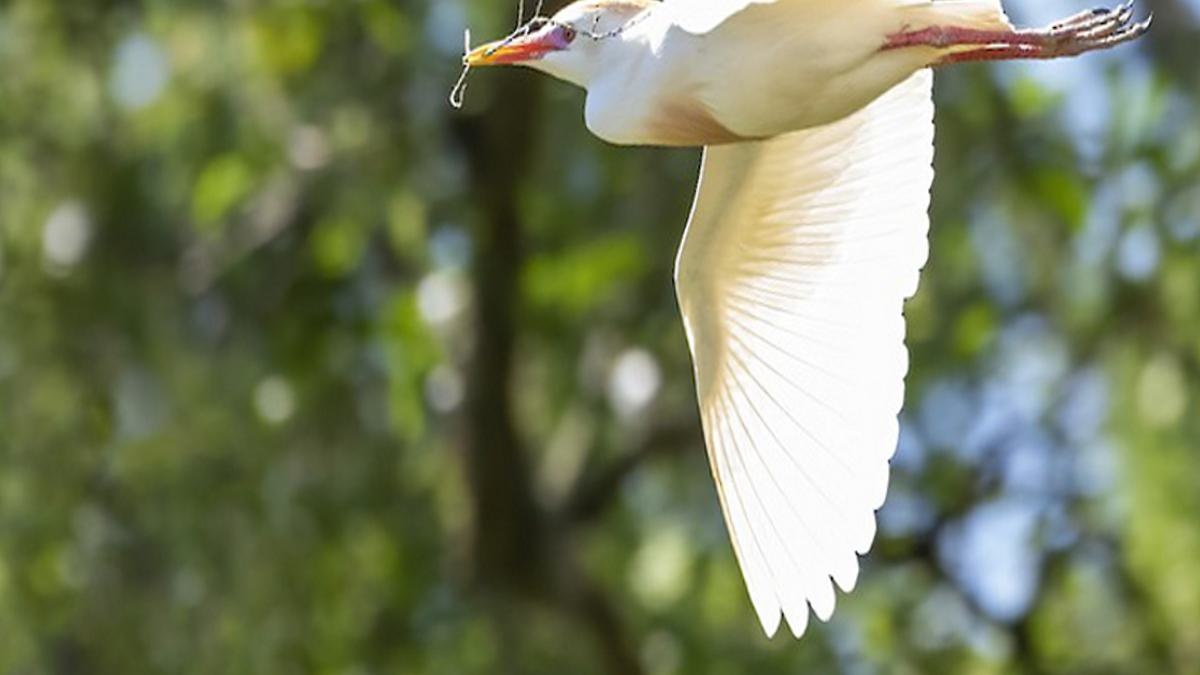egret: (426, 1, 1140, 607)
